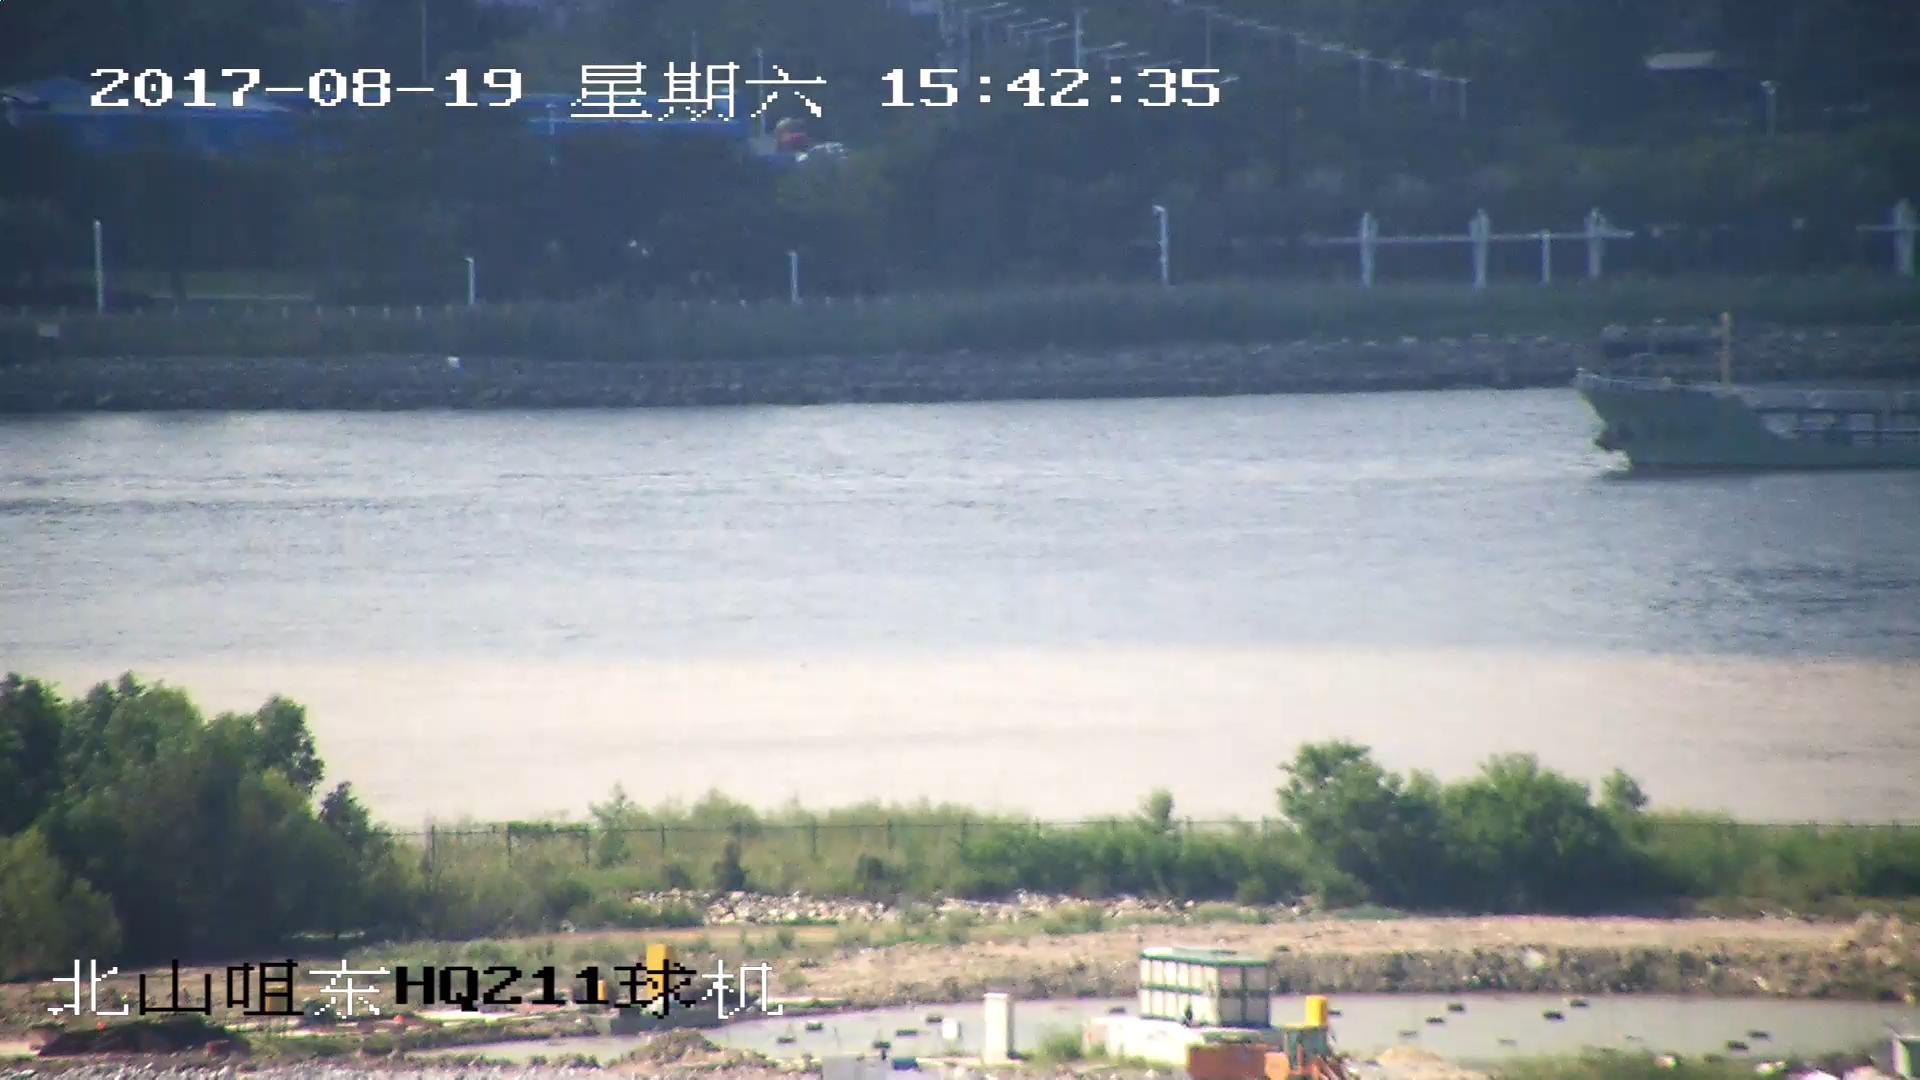general cargo ship: (1578, 373, 1920, 476)
